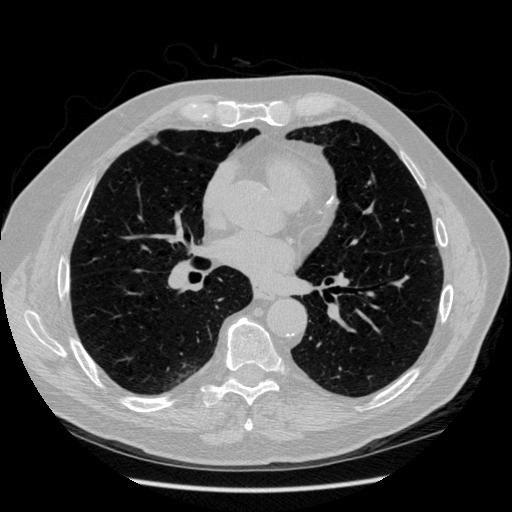nodule: (150, 136, 161, 147)
